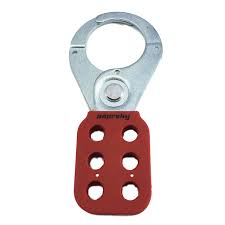hasp: (66, 11, 163, 216)
